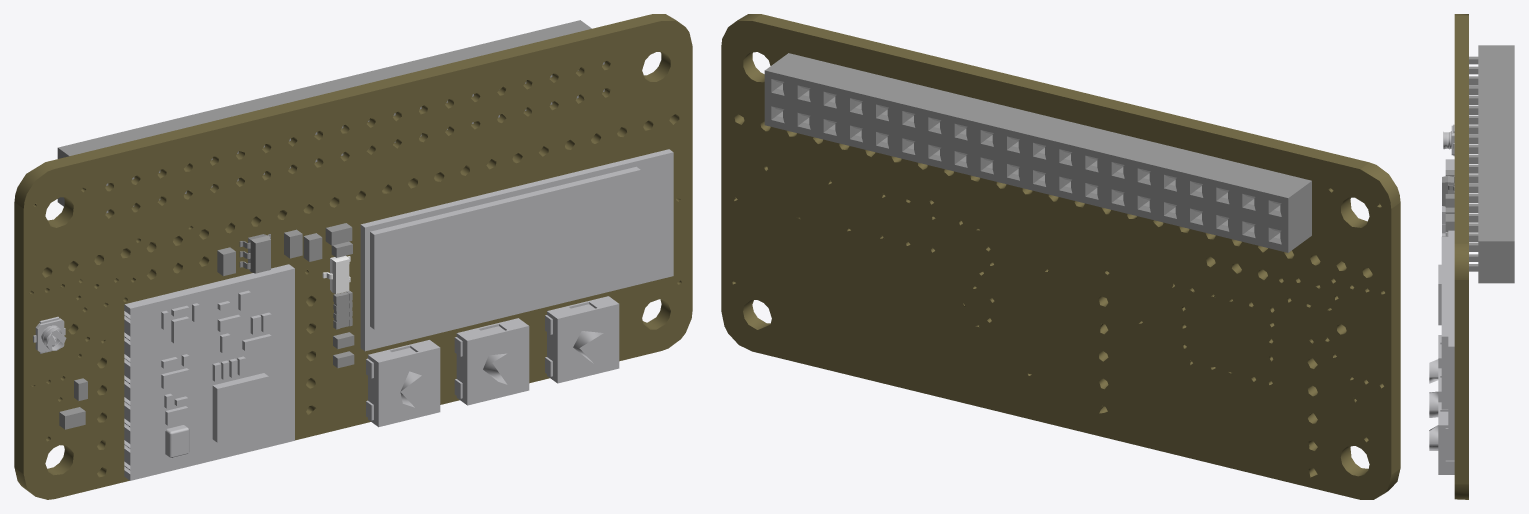
Rendered from ada-4074.glb.
The picture shows the model from 3 angles, left to right: view 1: azimuth 30°, elevation 25°; view 2: azimuth 150°, elevation 25°; view 3: azimuth 270°, elevation 25°; orthographic projection. The views are drawn at different scales.
Parts seen in each view (by area): view 1: 0.16666666666666666_0.16666666666666666_0.08333333333333333_, 0.5833333333333334_0.5833333333333334_0.5833333333333334_0.8, 0.3333333333333333_0.3333333333333333_0.3333333333333333_0, 0.9166666666666666_0.9166666666666666_0.9166666666666666_0.8; view 2: 0.16666666666666666_0.16666666666666666_0.08333333333333333_, 0.3333333333333333_0.3333333333333333_0.3333333333333333_0; view 3: 0.3333333333333333_0.3333333333333333_0.3333333333333333_0, 0.16666666666666666_0.16666666666666666_0.08333333333333333_, 0.5833333333333334_0.5833333333333334_0.5833333333333334_0.8.
Boxes of the visible parts, <box> form: 0.16666666666666666_0.16666666666666666_0.08333333333333333_: <box>14,14,692,499</box>; 0.5833333333333334_0.5833333333333334_0.5833333333333334_0.8: <box>33,149,673,480</box>; 0.3333333333333333_0.3333333333333333_0.3333333333333333_0: <box>57,20,604,429</box>; 0.9166666666666666_0.9166666666666666_0.9166666666666666_0.8: <box>322,255,350,293</box>; 0.16666666666666666_0.16666666666666666_0.08333333333333333_: <box>721,14,1400,499</box>; 0.3333333333333333_0.3333333333333333_0.3333333333333333_0: <box>764,53,1311,252</box>; 0.3333333333333333_0.3333333333333333_0.3333333333333333_0: <box>1442,45,1514,283</box>; 0.16666666666666666_0.16666666666666666_0.08333333333333333_: <box>1454,14,1468,499</box>; 0.5833333333333334_0.5833333333333334_0.5833333333333334_0.8: <box>1429,124,1454,474</box>.
Bounding box in the file's own units: 6.5 × 3.07 × 0.937.
